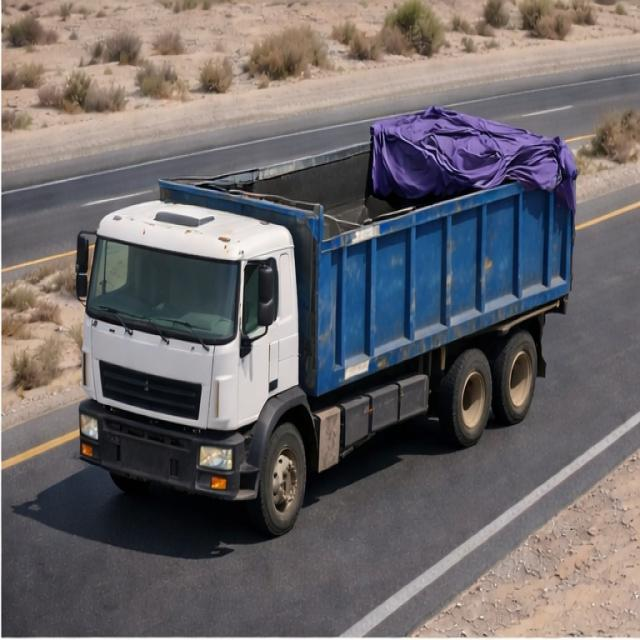trailer: (162, 104, 574, 240)
truck: (71, 60, 582, 537)
